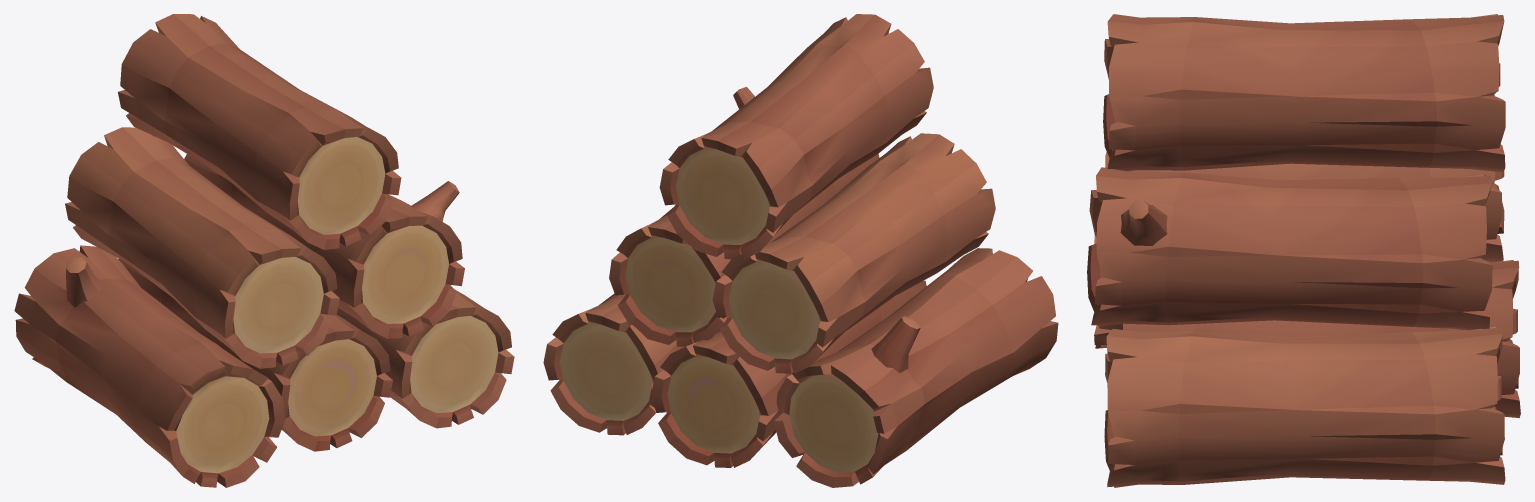
The model's file is wood-log-stack.glb.
3 views of the same model, side by side, from view 1: azimuth 30°, elevation 25°; view 2: azimuth 150°, elevation 25°; view 3: azimuth 270°, elevation 25° (orthographic). The views are drawn at different scales.
Parts seen in each view (by area): view 1: Wood_Log_Stack; view 2: Wood_Log_Stack; view 3: Wood_Log_Stack.
Boxes of the visible parts, box(x1,y1,x2,y2) form: Wood_Log_Stack: box(14, 14, 514, 487); Wood_Log_Stack: box(543, 14, 1058, 487); Wood_Log_Stack: box(1087, 14, 1520, 487).
Size of the model in its own units: 1.68 by 1.5 by 1.5.
1 material, 1 textured.
